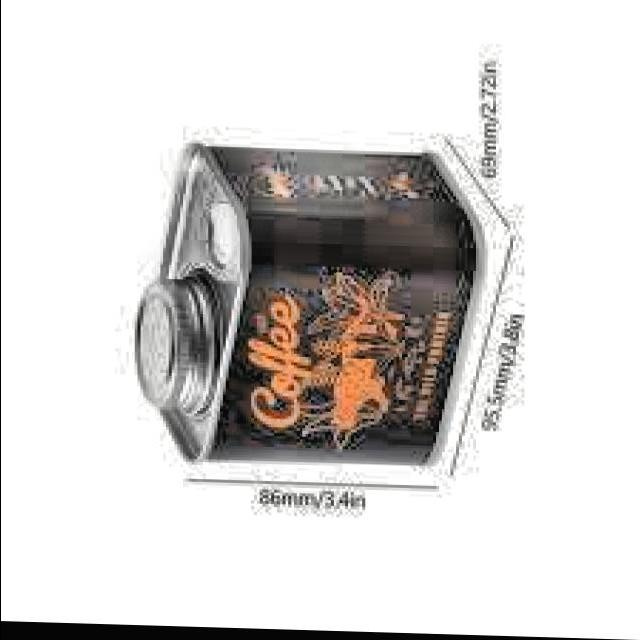Aluminum Can: (120, 130, 483, 480)
